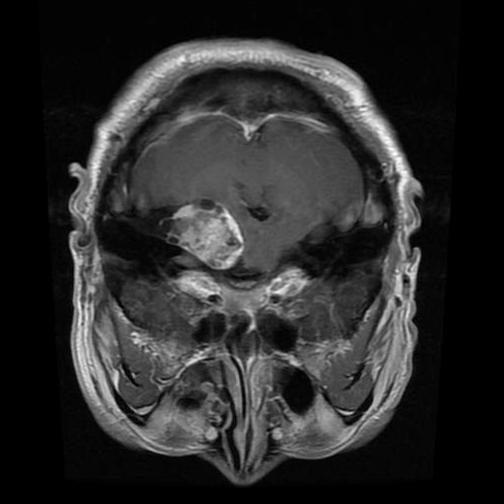Tumour-Meningioma: (150, 172, 268, 275)
